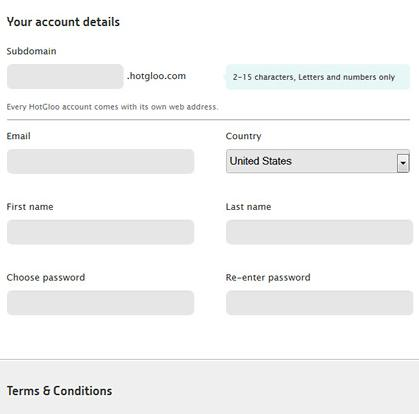field: (3, 286, 195, 316), (223, 217, 415, 246), (4, 146, 195, 174), (5, 217, 195, 245), (223, 289, 414, 316), (225, 148, 410, 174), (5, 62, 125, 89)
field_with_label: (220, 201, 417, 248), (1, 271, 196, 318), (1, 201, 195, 247), (222, 272, 415, 317), (222, 131, 411, 176), (2, 131, 195, 175), (2, 46, 127, 92)
